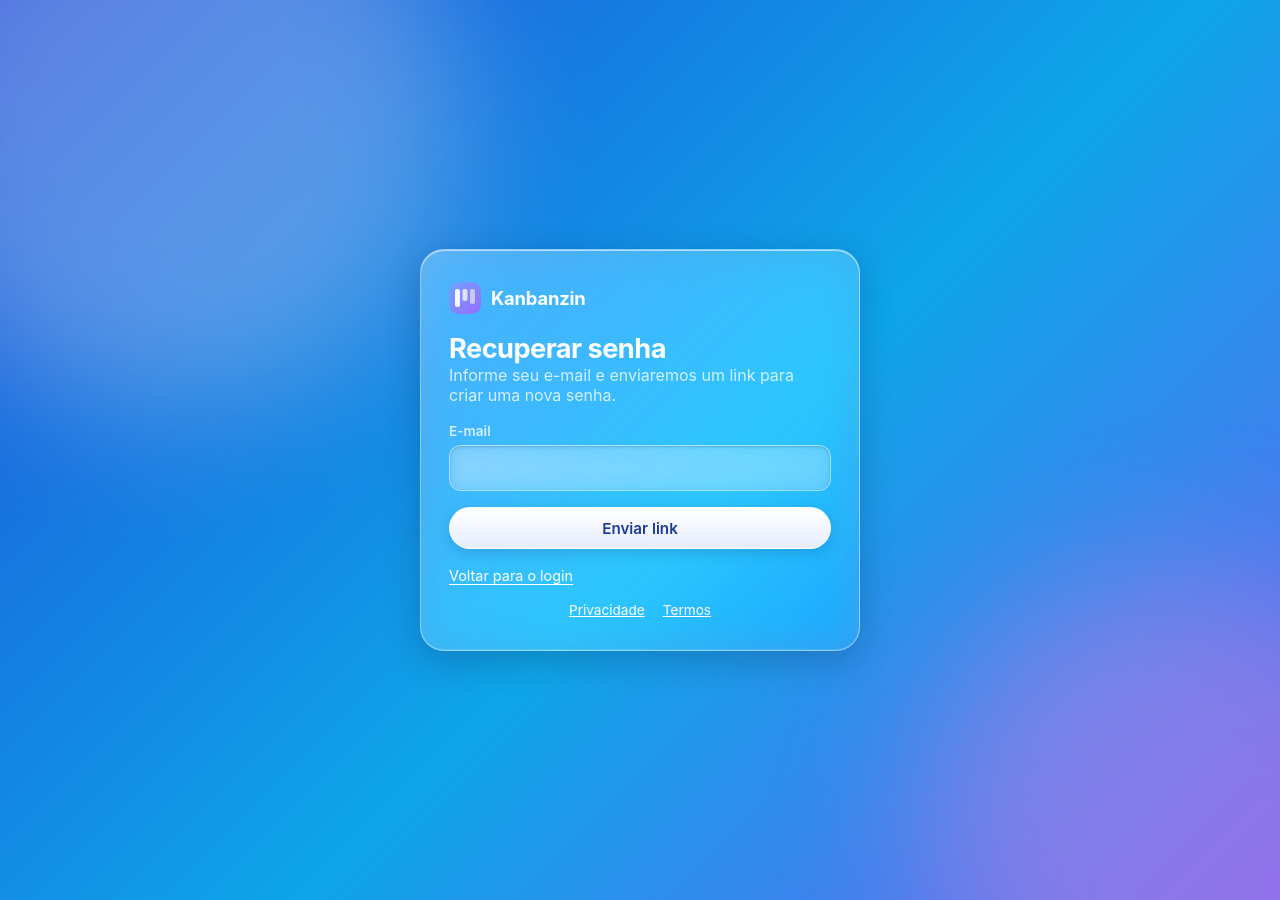
Test: auth pages › confirms the recovery e-mail request without disclosing whether the account exists
Step 1. Type "someone@example.com" into the field labelled "E-mail" → (640, 468), box x1=449 y1=445 x2=831 y2=491
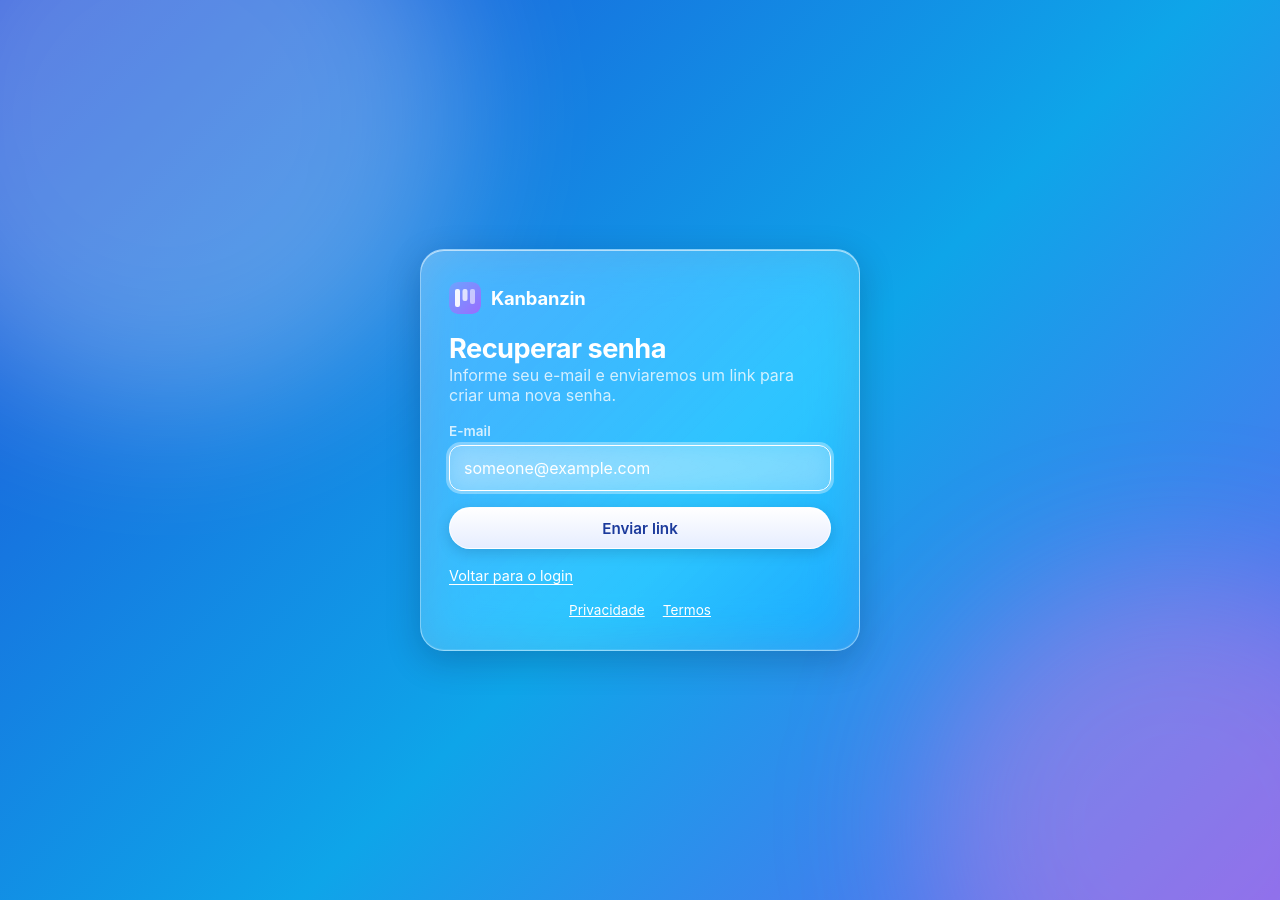
Step 2. Click the button "Enviar link" → (640, 528), box x1=449 y1=507 x2=831 y2=549
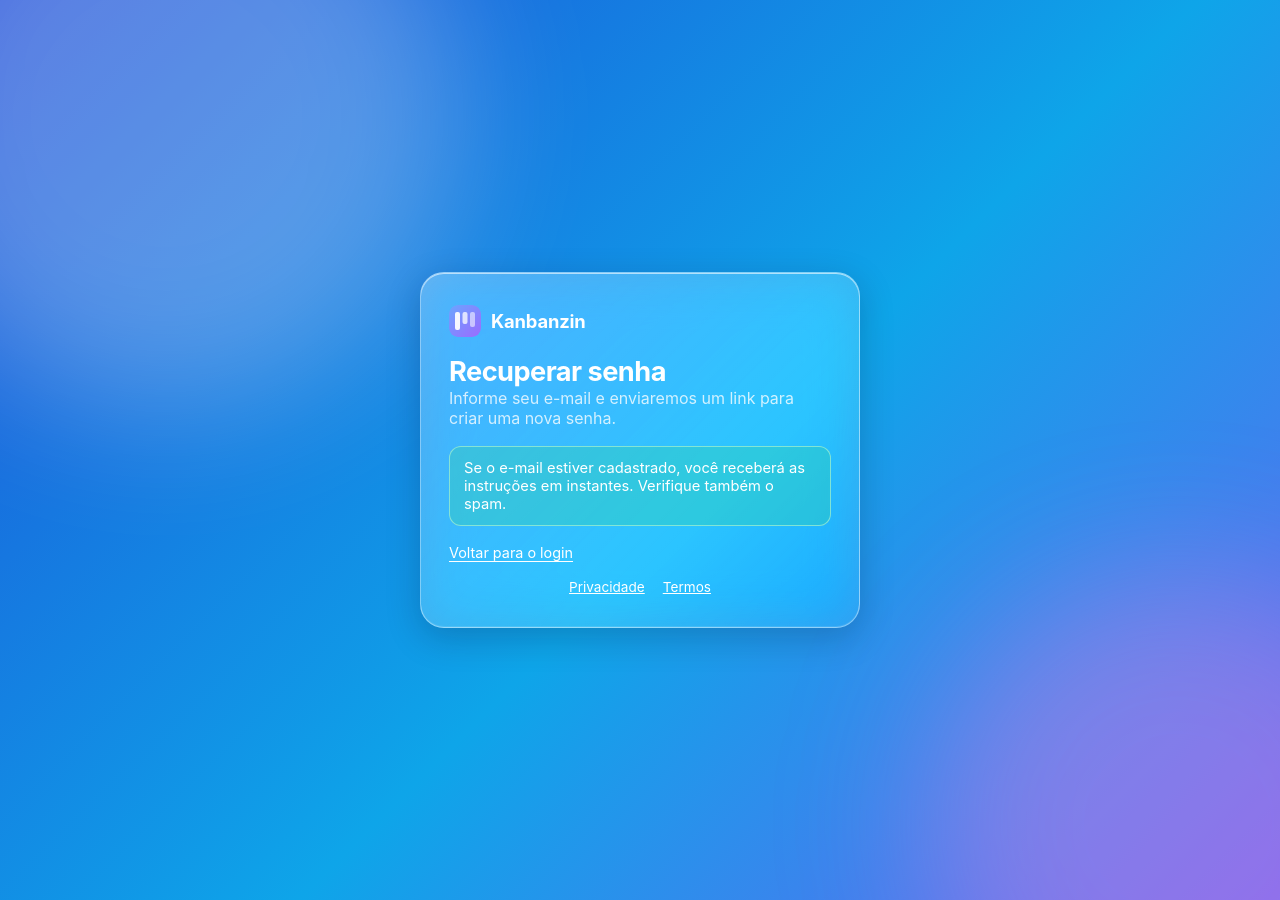
Expected: the message shows "Se o e-mail estiver cadastrado", x1=464 y1=459 x2=805 y2=513
